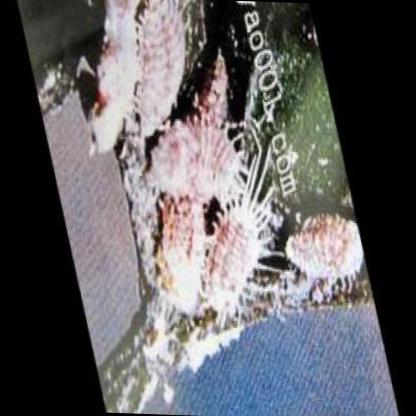mealy bug: (207, 150, 272, 319), (152, 115, 241, 202), (139, 1, 186, 141), (161, 196, 204, 314), (284, 214, 360, 280)
